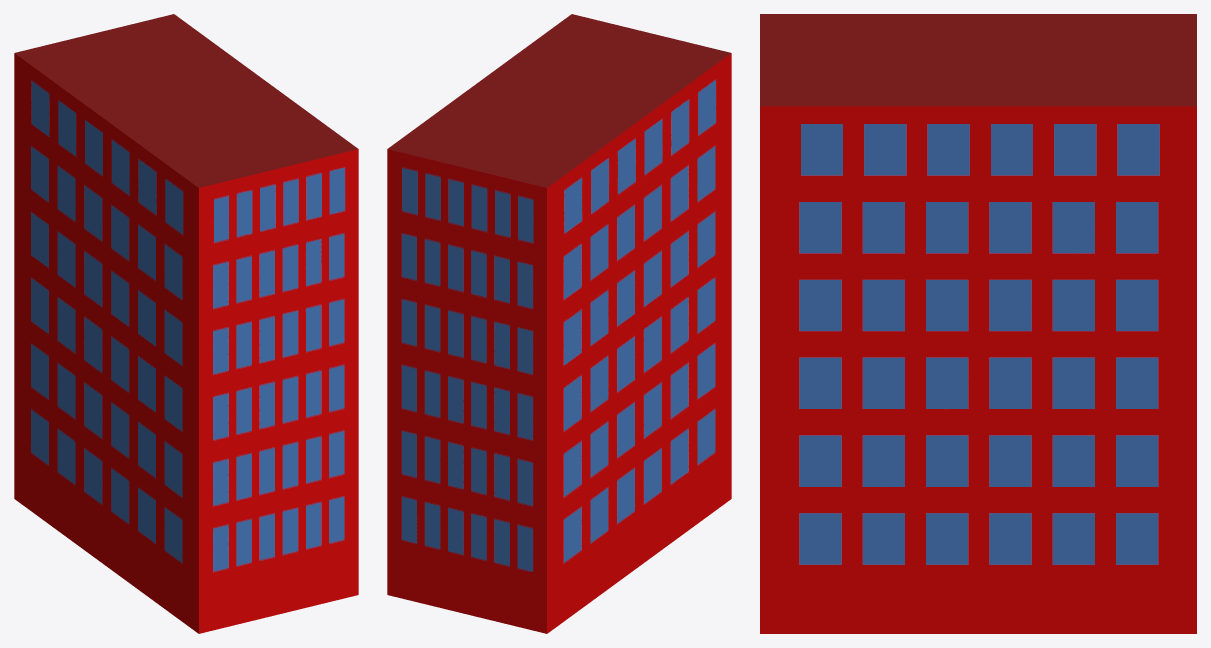
Rendered from high-rise housing.fbx.
The picture shows the model from 3 angles, left to right: view 1: azimuth 30°, elevation 25°; view 2: azimuth 150°, elevation 25°; view 3: azimuth 270°, elevation 25°; orthographic projection. The views are drawn at different scales.
Visible parts, largest first — view 1: Box001; view 2: Box001; view 3: Box001.
Part boxes in pixels (box(x1,y1,x2,y2)): Box001: box(14, 14, 358, 633); Box001: box(387, 14, 731, 633); Box001: box(760, 14, 1196, 633).
Bounding box in the file's own units: 30 × 80 × 60.
Materials: 2 (1 with a texture image).
